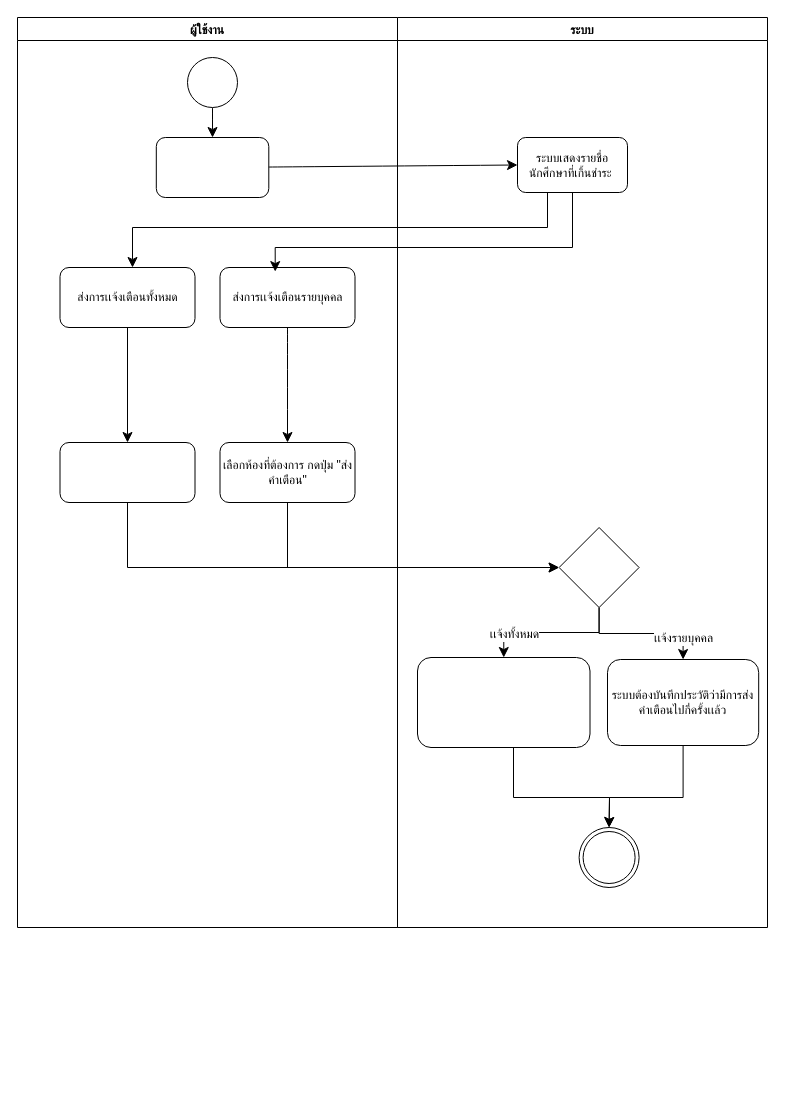
Some shapes in this 785 by 1093 pixel diagram are drawn without their labels. The centre of each missing label's shape, as x and y in pixels:
กดปุ่ม "ส่งการเเจ้งเตือนทั้งหมด": point 127,472
ระบบต้องส่ง Notification หรือ Email ไปยังนักศึกษานั้นอัตติโนมัต: point 503,702
เจ้าหน้าที่ต้องส่งการเเจ้งเตือนยอดค้างชำระ: point 212,167
